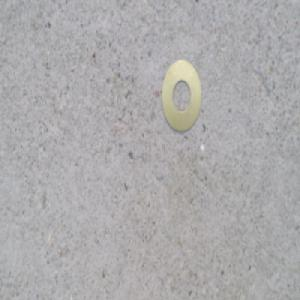Washer: (160, 60, 201, 134)
